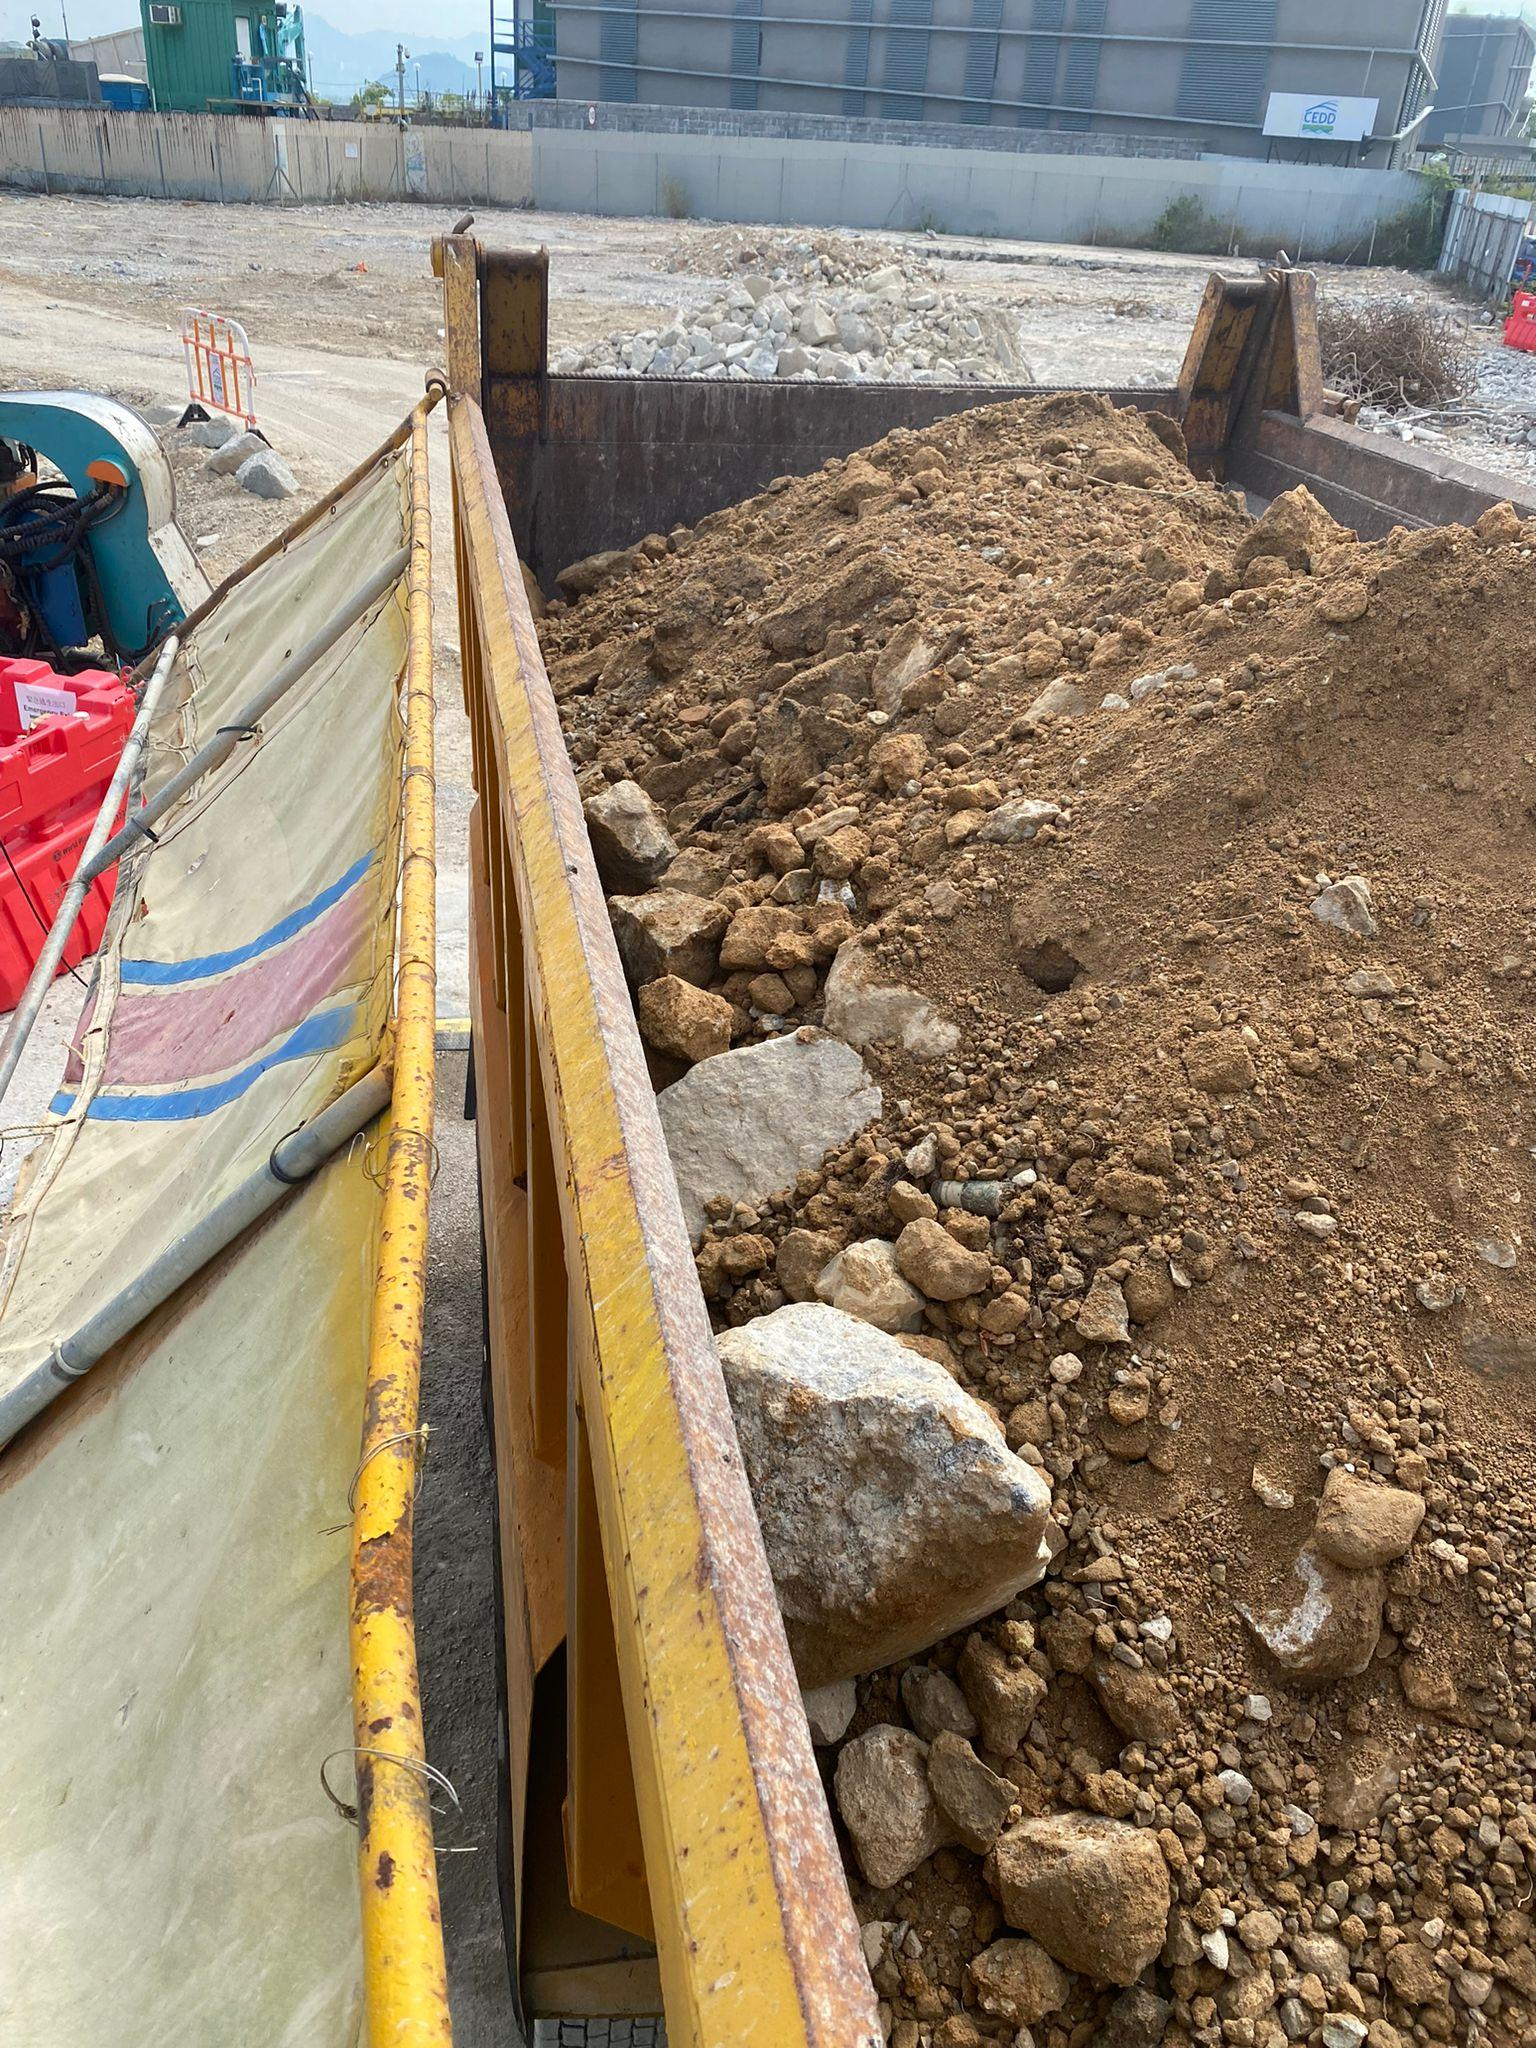dry: (570, 393, 1526, 2048)
